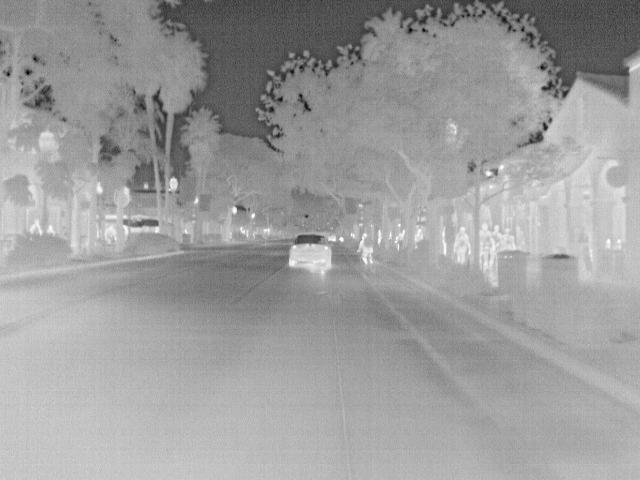car: (287, 234, 333, 270)
person: (448, 227, 472, 264), (477, 222, 494, 268), (356, 233, 373, 266), (500, 226, 518, 248), (27, 218, 42, 236), (44, 224, 57, 237)
